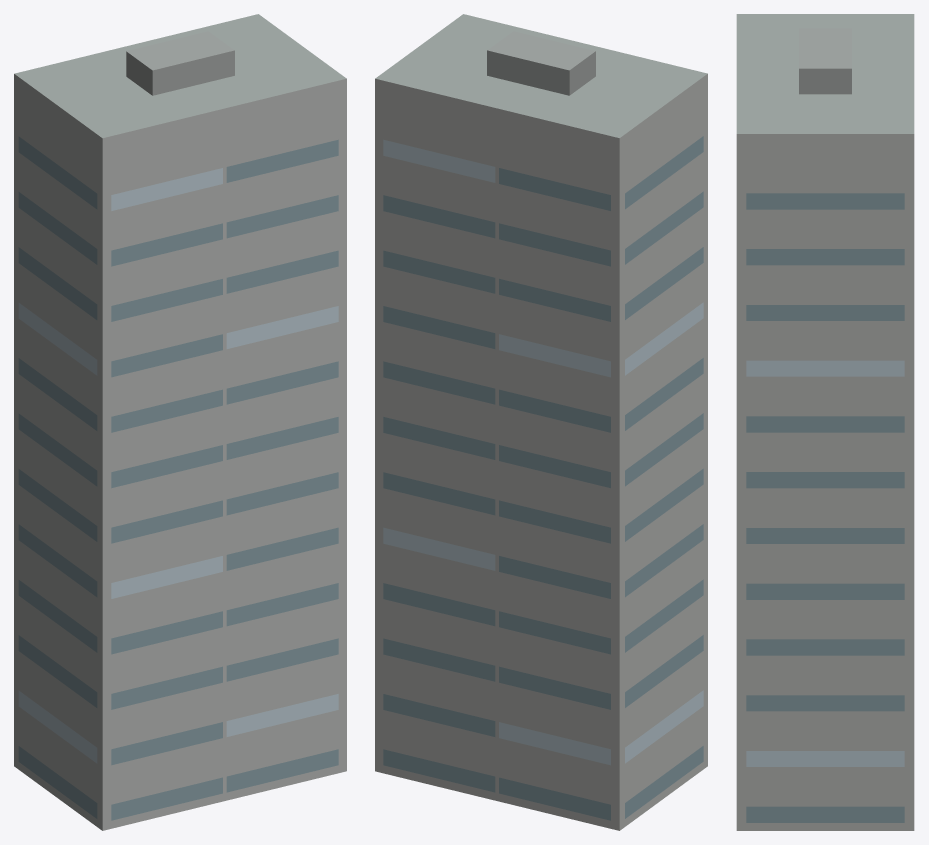
Rendered from fallback-sk-bukhansan-city-102.glb.
3 renders of one model, left to right at view 1: azimuth 30°, elevation 25°; view 2: azimuth 150°, elevation 25°; view 3: azimuth 270°, elevation 25°, orthographic.
Visible parts, largest first — view 1: fallback-sk-bukhansan-city-102; view 2: fallback-sk-bukhansan-city-102; view 3: fallback-sk-bukhansan-city-102.
Part boxes in pixels (bbox=[...]): fallback-sk-bukhansan-city-102: bbox=[14, 14, 346, 830]; fallback-sk-bukhansan-city-102: bbox=[375, 14, 707, 830]; fallback-sk-bukhansan-city-102: bbox=[736, 14, 914, 830].
Bounding box in the file's own units: 24.32 × 68 × 15.26.
